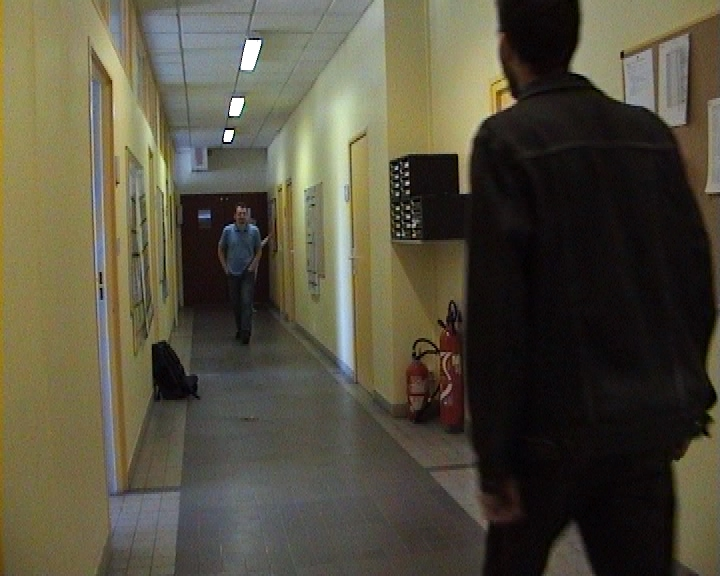leave bag unattended: (141, 336, 199, 404)
